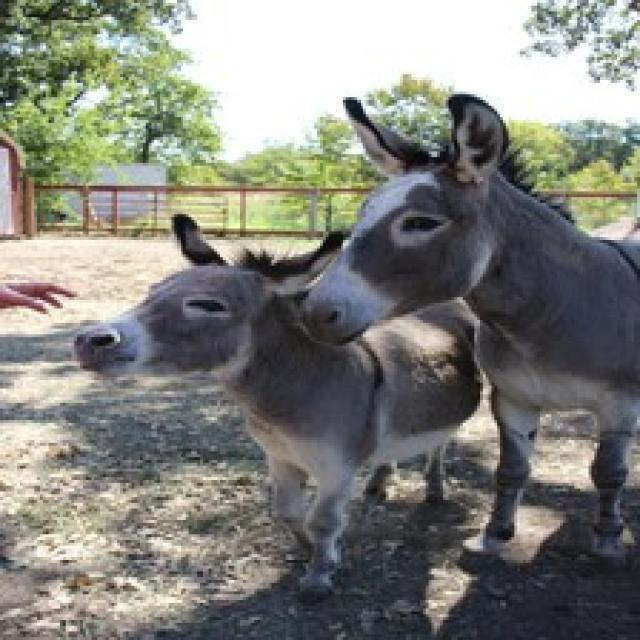Donkey: (314, 66, 640, 603), (71, 211, 483, 603)
